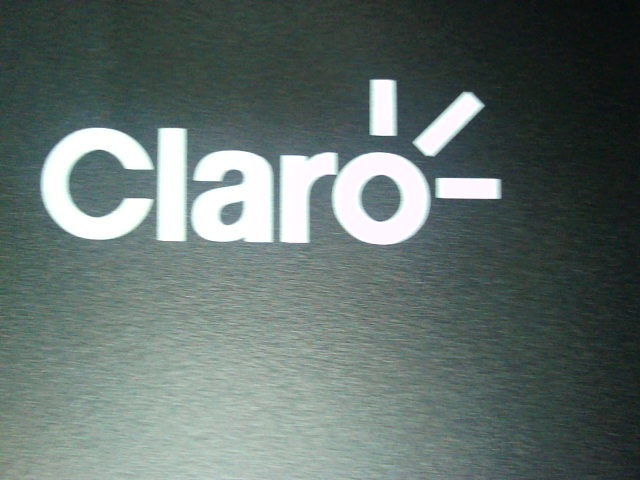BC_Claor: (34, 58, 513, 256)
